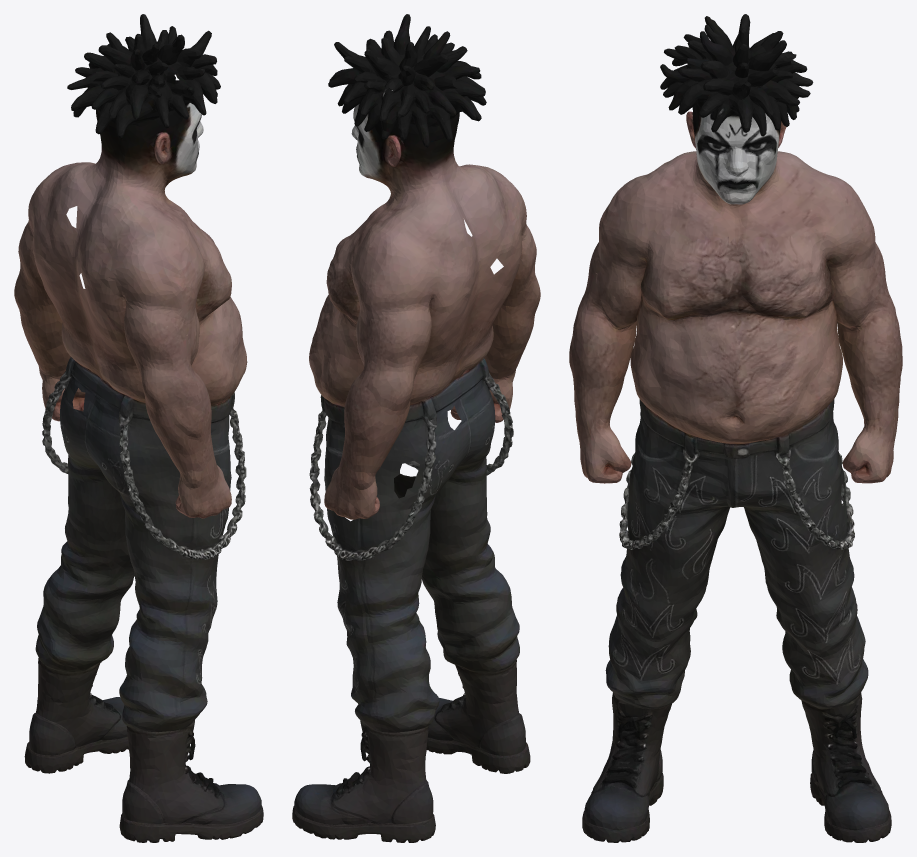
File: MAIME.glb
The picture shows the model from 3 angles, left to right: view 1: azimuth 30°, elevation 25°; view 2: azimuth 150°, elevation 25°; view 3: azimuth 270°, elevation 25°; orthographic projection. The views are drawn at different scales.
Visible parts, largest first — view 1: hipL, chest, knL, knR, head, ftL, shL, pelvis, ftR, hipR, elL, shR (+1 smaller); view 2: hipR, chest, knR, knL, head, shR, ftR, pelvis, ftL, hipL, elR, shL (+1 smaller); view 3: chest, hipR, hipL, knL, knR, elL, head, pelvis, elR, shR, ftL, ftR (+3 smaller).
Part boxes in pixels (<box>): hipL: <box>103,327,244,548</box>; chest: <box>26,112,227,332</box>; knL: <box>119,513,238,757</box>; knR: <box>35,471,134,689</box>; head: <box>67,14,220,138</box>; ftL: <box>119,737,263,842</box>; shL: <box>117,106,222,345</box>; pelvis: <box>48,291,236,521</box>; ftR: <box>24,674,128,773</box>; hipR: <box>14,249,88,499</box>; elL: <box>166,266,247,384</box>; shR: <box>18,162,94,254</box>; hipR: <box>311,328,450,550</box>; chest: <box>326,111,529,337</box>; knR: <box>316,518,439,755</box>; knL: <box>396,461,519,691</box>; head: <box>328,14,486,142</box>; shR: <box>329,108,436,350</box>; ftR: <box>292,738,435,842</box>; pelvis: <box>318,294,507,519</box>; ftL: <box>426,673,530,773</box>; hipL: <box>450,251,540,497</box>; elR: <box>309,280,369,396</box>; shL: <box>460,164,536,259</box>; chest: <box>658,121,816,337</box>; hipR: <box>771,268,902,533</box>; hipL: <box>569,282,698,530</box>; knL: <box>605,506,722,723</box>; knR: <box>752,507,868,723</box>; elL: <box>585,261,738,428</box>; head: <box>660,14,813,138</box>; pelvis: <box>685,334,785,537</box>; elR: <box>745,273,880,436</box>; shR: <box>768,83,884,292</box>; ftL: <box>582,706,669,842</box>; ftR: <box>805,707,891,842</box>.
Size of the model in its own units: 0.4381 by 1.88 by 0.7128.
1 material, 1 textured.
